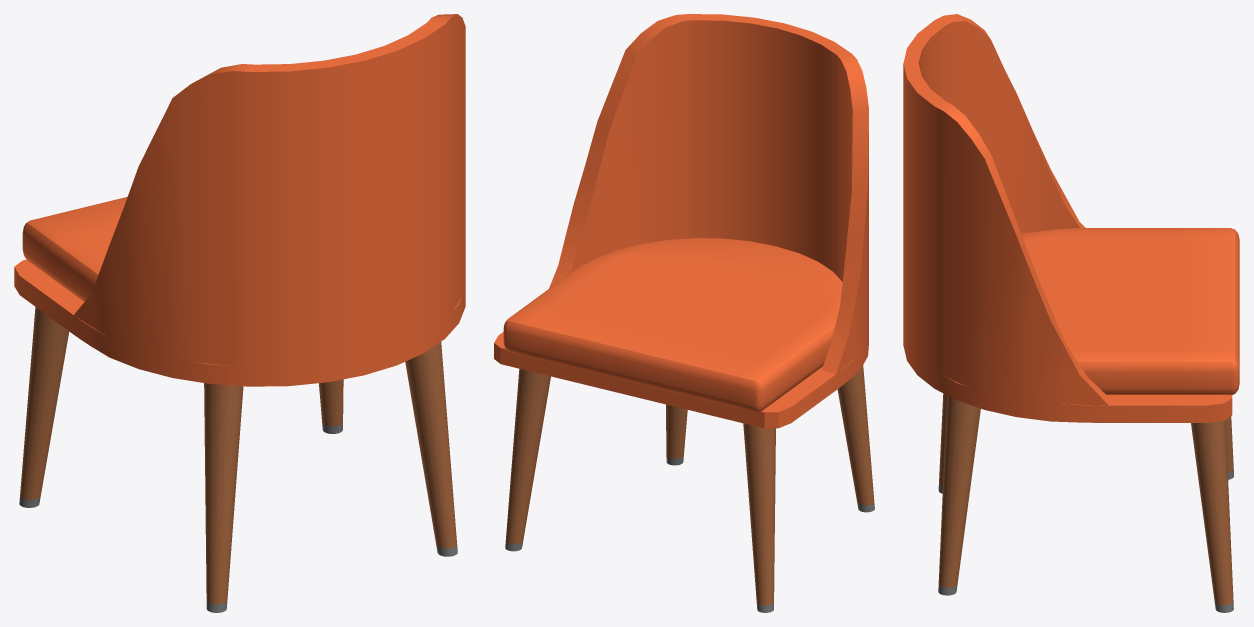
File: Chair_Single_05.glb
The picture shows the model from 3 angles, left to right: view 1: azimuth 30°, elevation 25°; view 2: azimuth 150°, elevation 25°; view 3: azimuth 270°, elevation 25°; orthographic projection. The views are drawn at different scales.
Visible parts, largest first — view 1: Mesh_Chair_Single_05; view 2: Mesh_Chair_Single_05; view 3: Mesh_Chair_Single_05.
Boxes of the visible parts, box(x1,y1,x2,y2) form: Mesh_Chair_Single_05: box(14, 14, 465, 612); Mesh_Chair_Single_05: box(494, 14, 874, 612); Mesh_Chair_Single_05: box(903, 14, 1239, 612).
Bounding box in the file's own units: 0.5 × 0.7263 × 0.4597.
1 material, 1 textured.
